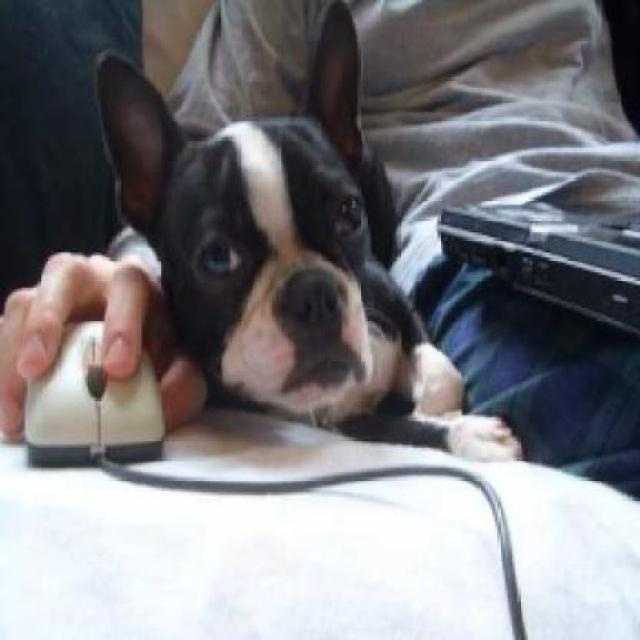mause: (39, 255, 198, 528)
